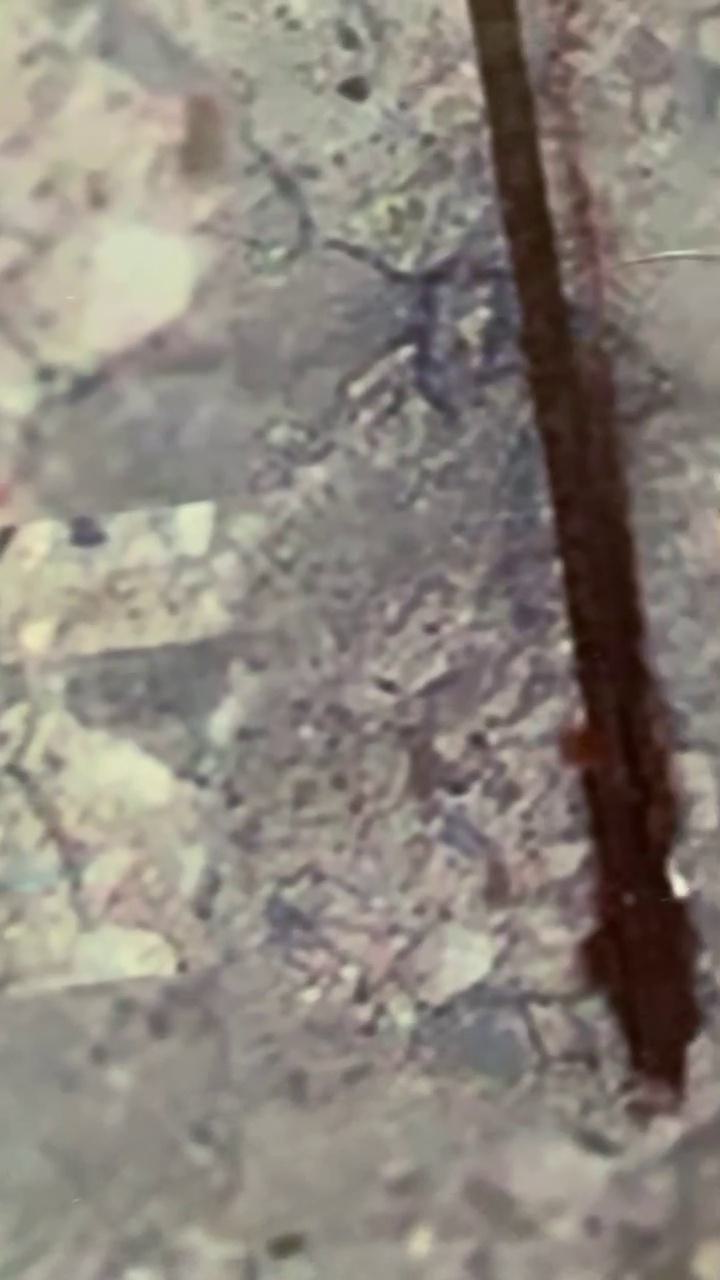Exposed reinforcement: (465, 1, 709, 1095)
